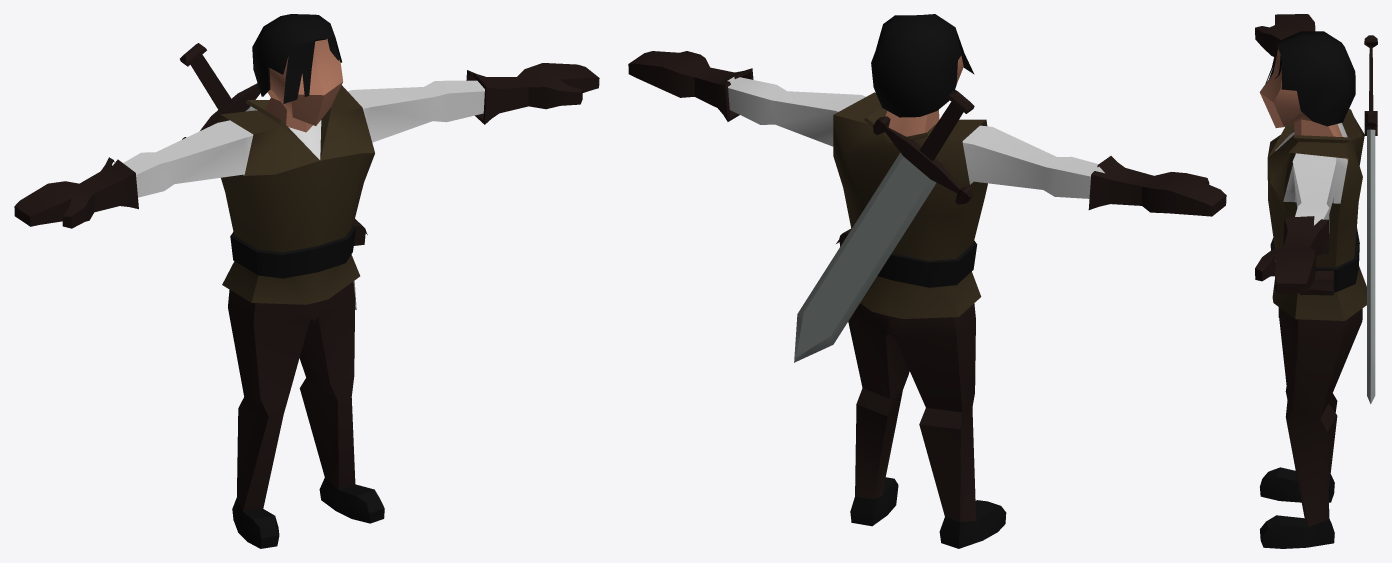
Rendered from SM_Character_male.FBX.
3 renders of one model, left to right at view 1: azimuth 30°, elevation 25°; view 2: azimuth 150°, elevation 25°; view 3: azimuth 270°, elevation 25°, orthographic. The views are drawn at different scales.
Parts seen in each view (by area): view 1: SM_Character_male; view 2: SM_Character_male; view 3: SM_Character_male.
Part boxes in pixels (x1,y1,x2,y2): SM_Character_male: (14,14,599,548); SM_Character_male: (628,14,1226,548); SM_Character_male: (1255,14,1377,548).
Size of the model in its own units: 54.61 by 45.41 by 10.51.
